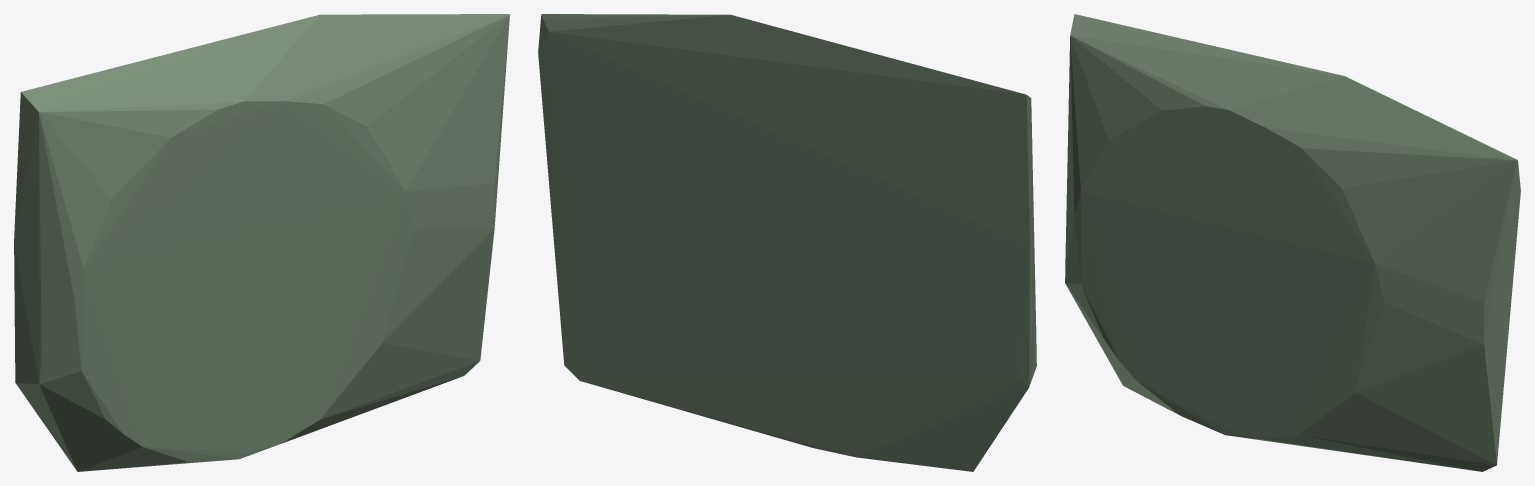
The model's file is coolingSystem_fan_shroud_c01.glb.
3 views of the same model, side by side, from view 1: azimuth 30°, elevation 25°; view 2: azimuth 150°, elevation 25°; view 3: azimuth 330°, elevation 25° (orthographic). The views are drawn at different scales.
Visible parts, largest first — view 1: geometry_0; view 2: geometry_0; view 3: geometry_0.
Part boxes in pixels (x1,y1,x2,y2): geometry_0: (14, 14, 509, 471); geometry_0: (538, 14, 1036, 471); geometry_0: (1065, 14, 1520, 471).
Size of the model in its own units: 0.4772 by 0.3809 by 0.0496.
